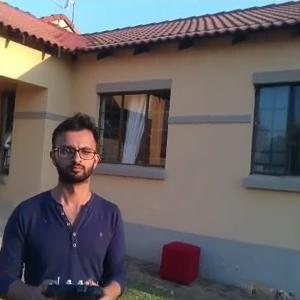follow: (0, 106, 128, 297)
null: (227, 265, 292, 298)
